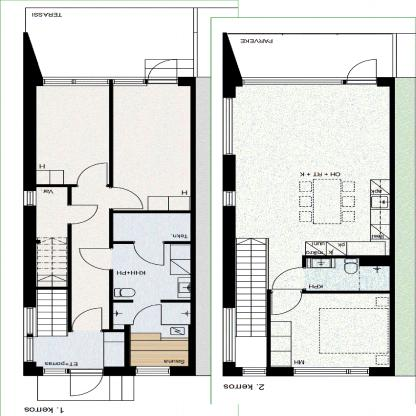door: (272, 266, 304, 314), (346, 55, 380, 88), (111, 188, 149, 212), (145, 58, 178, 85), (70, 370, 104, 395), (80, 161, 110, 187), (82, 248, 113, 273), (133, 300, 163, 325), (133, 242, 165, 265), (74, 308, 107, 330), (68, 205, 101, 225)
window: (242, 78, 346, 86), (224, 98, 238, 157), (223, 305, 236, 362), (293, 367, 374, 376), (44, 78, 110, 89), (21, 308, 36, 338), (134, 366, 170, 375), (23, 338, 36, 360), (110, 78, 142, 86), (242, 368, 266, 375), (25, 191, 35, 207), (223, 192, 234, 206), (44, 368, 66, 375)
zone: (235, 84, 388, 290), (25, 7, 198, 81), (112, 88, 189, 211), (271, 289, 390, 368), (223, 34, 394, 78), (35, 86, 109, 186), (115, 213, 190, 301), (73, 187, 114, 332), (34, 186, 69, 338), (116, 303, 194, 366), (235, 240, 270, 370), (32, 330, 126, 366), (307, 257, 393, 292), (38, 376, 134, 400)
